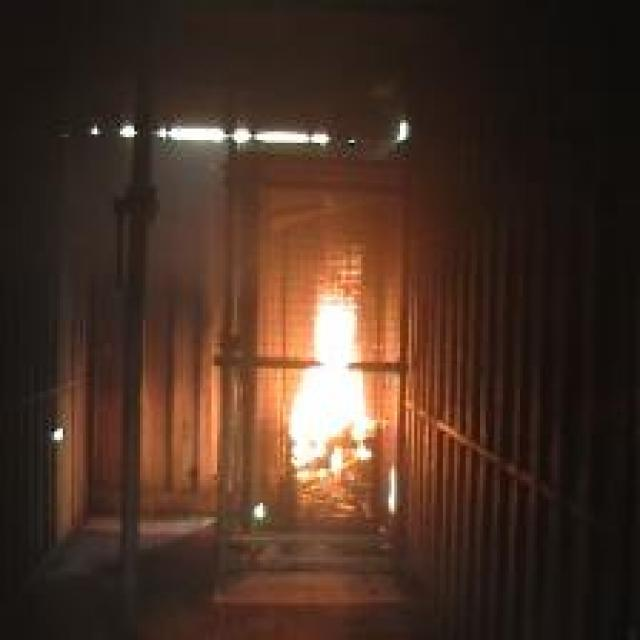Fire: (290, 247, 376, 484)
